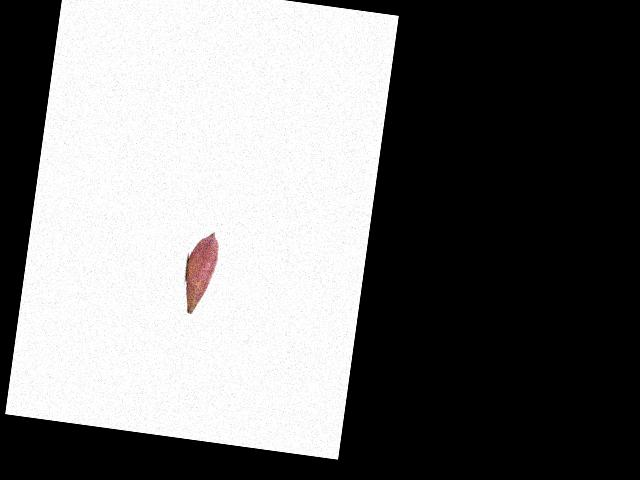sweet_potato: (182, 229, 221, 316)
